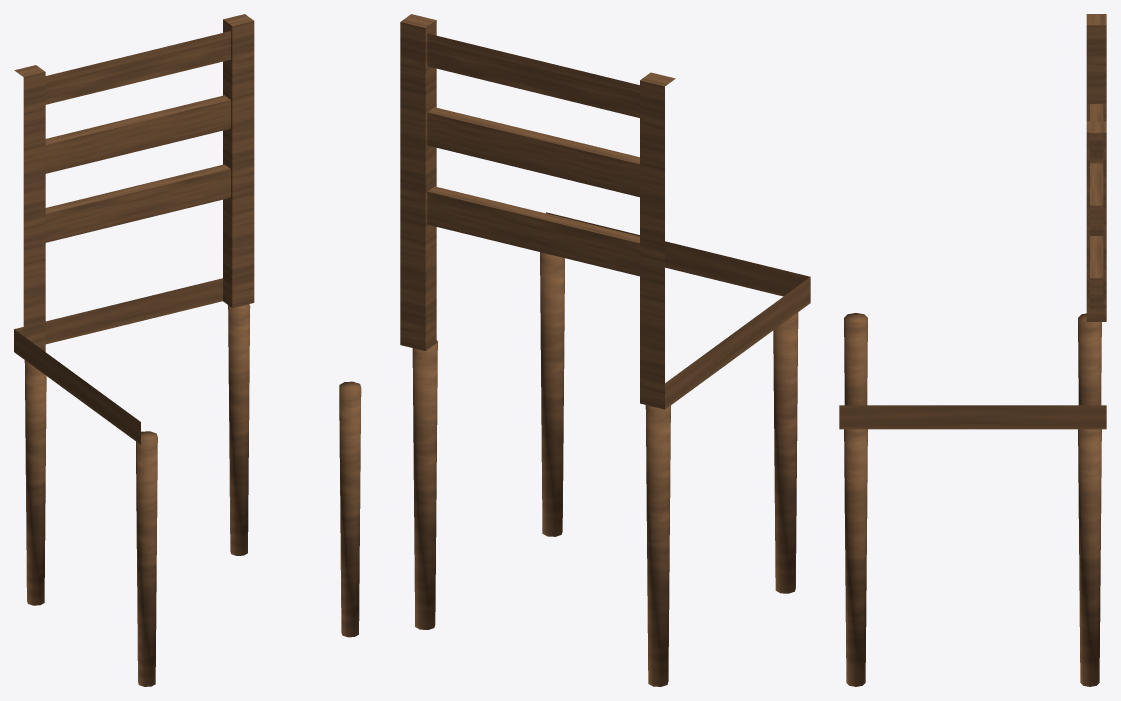
The model's file is chair_wood.glb.
The picture shows the model from 3 angles, left to right: view 1: azimuth 30°, elevation 25°; view 2: azimuth 150°, elevation 25°; view 3: azimuth 270°, elevation 25°; orthographic projection. The views are drawn at different scales.
Parts seen in each view (by area): view 1: ChairWood; view 2: ChairWood; view 3: ChairWood.
Part boxes in pixels (x1=…): ChairWood: x1=14, y1=14, x2=361, y2=686; ChairWood: x1=400, y1=14, x2=810, y2=686; ChairWood: x1=839, y1=14, x2=1106, y2=686.
Size of the model in its own units: 0.42 by 0.92 by 0.4.
Materials: 1 (1 with a texture image).
